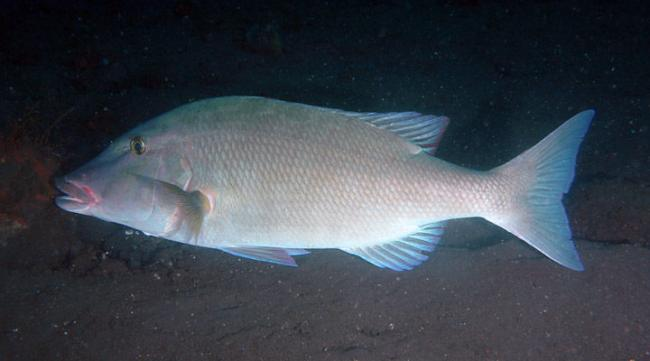fish: (54, 95, 597, 275)
